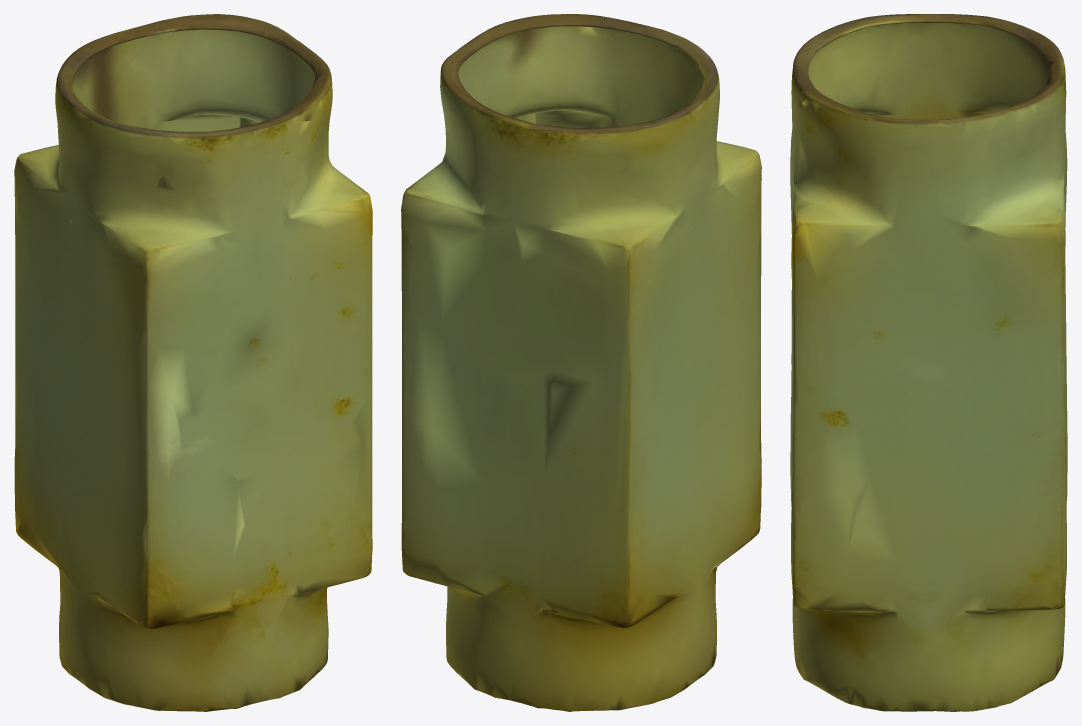
The model's file is guozhong-plain-roaming.glb.
3 renders of one model, left to right at view 1: azimuth 30°, elevation 25°; view 2: azimuth 150°, elevation 25°; view 3: azimuth 270°, elevation 25°, orthographic. The views are drawn at different scales.
Parts seen in each view (by area): view 1: node_0; view 2: node_0; view 3: node_0.
Part boxes in pixels (box(x1,y1,x2,y2)): node_0: box(14, 14, 372, 711); node_0: box(401, 14, 761, 711); node_0: box(790, 14, 1067, 711).
Bounding box in the file's own units: 0.4636 × 1.1 × 0.464.
Materials: 1 (1 with a texture image).
